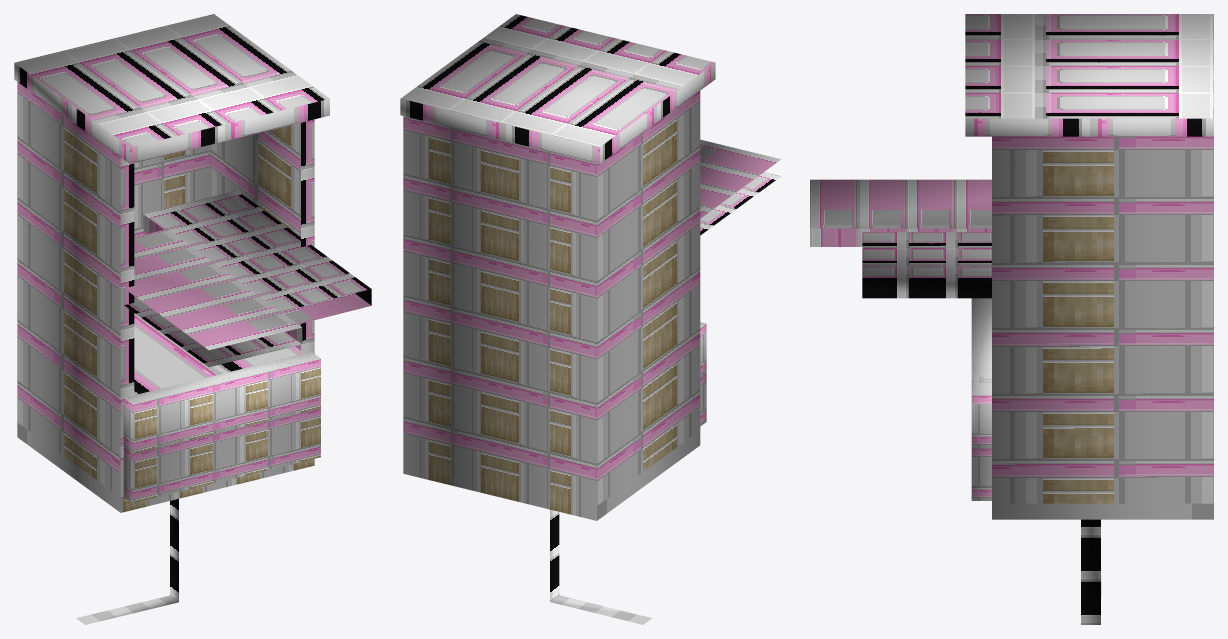
The model's file is 3228IMSD01_14.gltf.
3 views of the same model, side by side, from view 1: azimuth 30°, elevation 25°; view 2: azimuth 150°, elevation 25°; view 3: azimuth 270°, elevation 25° (orthographic). The views are drawn at different scales.
Visible parts, largest first — view 1: 3228IMSD01_14; view 2: 3228IMSD01_14; view 3: 3228IMSD01_14.
Part boxes in pixels (x1,y1,x2,y2): 3228IMSD01_14: (14,14,371,624); 3228IMSD01_14: (400,14,780,624); 3228IMSD01_14: (810,14,1213,624).
Bounding box in the file's own units: 0.9756 × 2.42 × 1.59.
2 materials, 2 textured.
